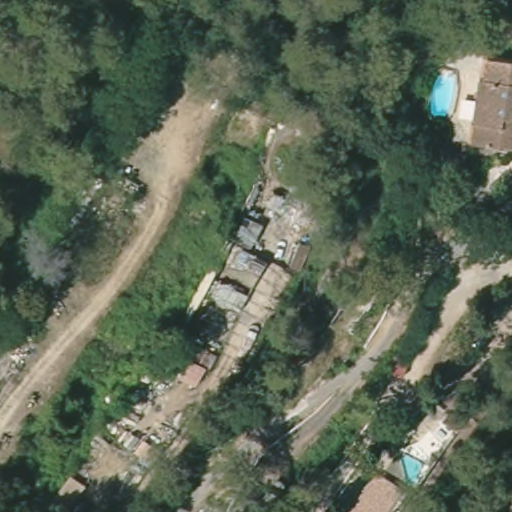pool: (425, 66, 457, 122), (384, 448, 428, 488)
